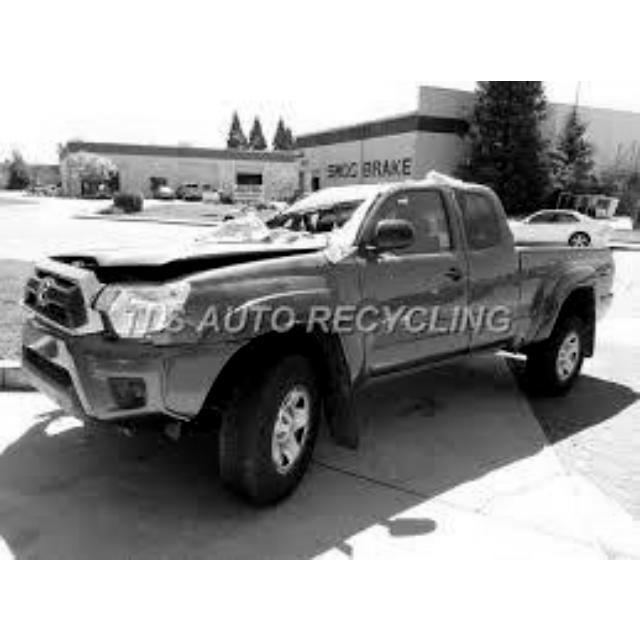Front-windscreen-damage: (215, 187, 363, 243)
bonnet-dent: (55, 226, 267, 268)
